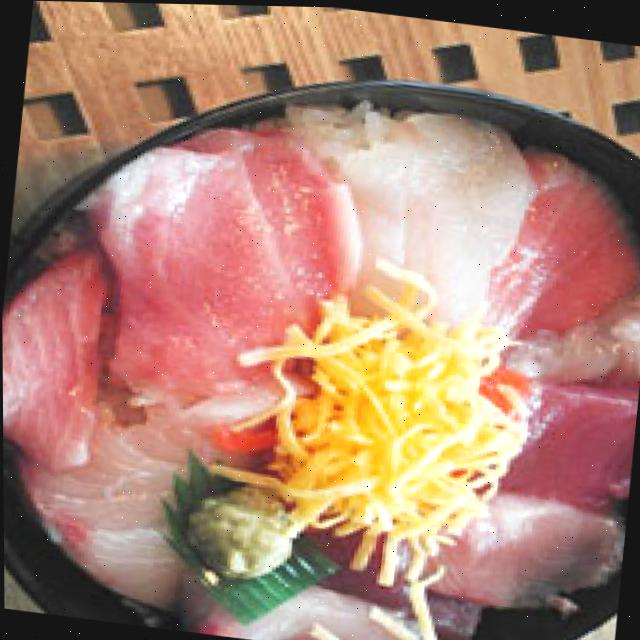刺身生食: (0, 41, 640, 640)
